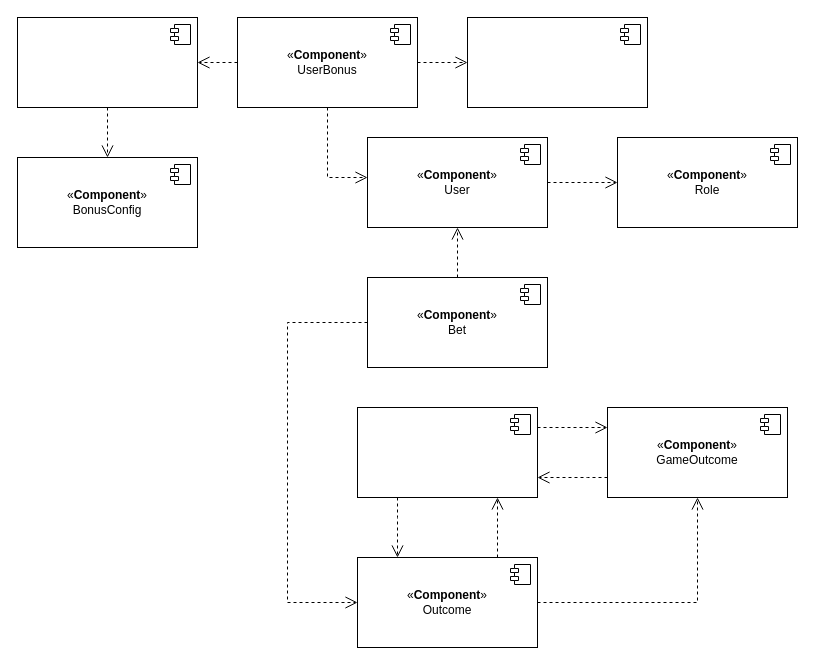
Image size: 815x665. Some labels were removed from this diagram. The shapes that lost their labels are listed below. From the top down, each one's box as (x1, y1, x2, y2) in pixels, then its label:
(16, 16, 198, 108): « Component » Bonus
(466, 16, 648, 108): « Component » UserBonusConfig
(356, 406, 538, 498): « Component » Lot
